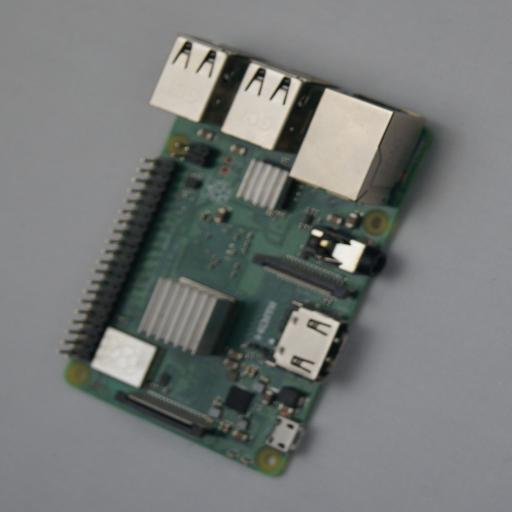Raspberry Pi 3 B-: (60, 37, 449, 477)
